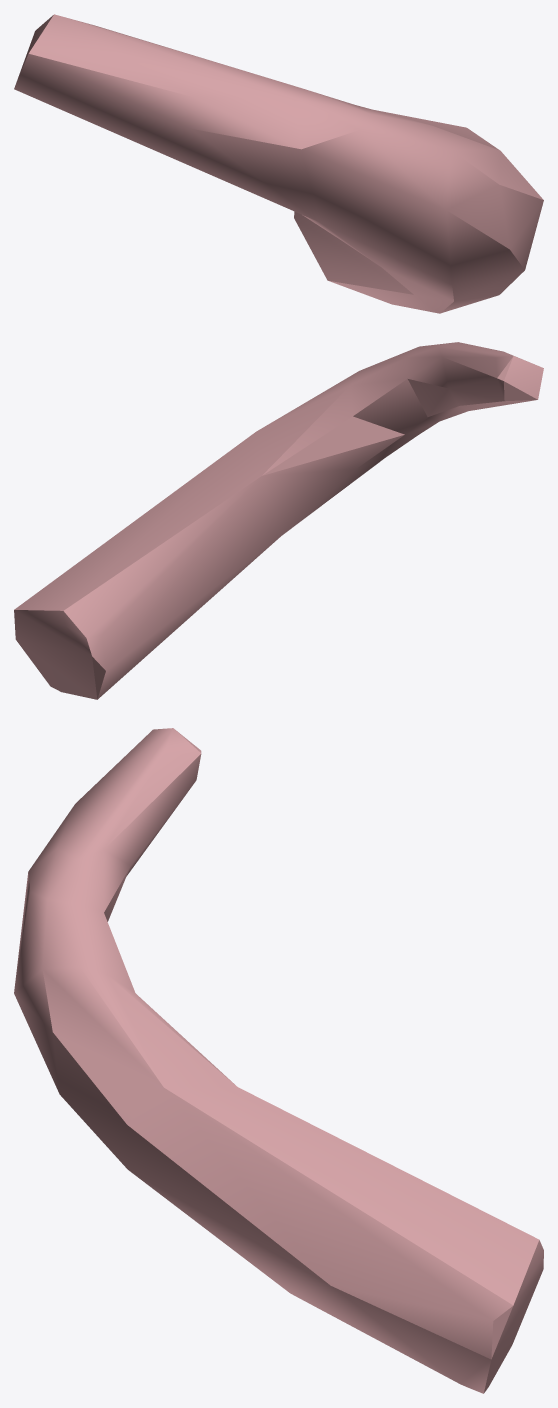
The model's file is fma68222_fj6501.glb.
3 renders of one model, top to bottom at view 1: azimuth 30°, elevation 25°; view 2: azimuth 150°, elevation 25°; view 3: azimuth 270°, elevation 25°, orthographic. The views are drawn at different scales.
Parts seen in each view (by area): view 1: FMA68222_FJ6501; view 2: FMA68222_FJ6501; view 3: FMA68222_FJ6501.
Boxes of the visible parts, x1=… form: FMA68222_FJ6501: x1=14, y1=14, x2=543, y2=313; FMA68222_FJ6501: x1=14, y1=342, x2=543, y2=699; FMA68222_FJ6501: x1=14, y1=728, x2=543, y2=1393.
Bounding box in the file's own units: 0.0183 × 0.0144 × 0.0156.
